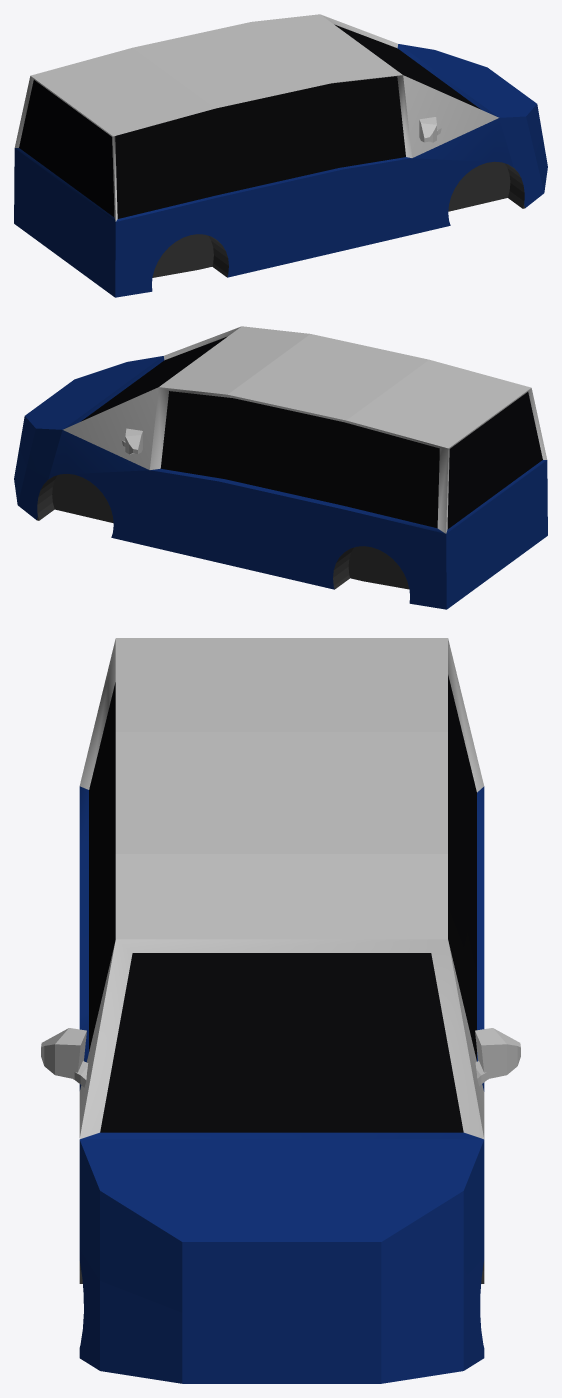
File: edgar_body_low.obj
3 views of the same model, one above another, from view 1: azimuth 30°, elevation 25°; view 2: azimuth 150°, elevation 25°; view 3: azimuth 270°, elevation 25° (orthographic). The views are drawn at different scales.
Parts seen in each view (by area): view 1: Edgar_Body; view 2: Edgar_Body; view 3: Edgar_Body.
Part boxes in pixels (x1,y1,x2,y2): Edgar_Body: [14, 14, 547, 297]; Edgar_Body: [14, 326, 547, 609]; Edgar_Body: [41, 638, 520, 1383].
Bounding box in the file's own units: 4.75 × 1.65 × 2.15.
